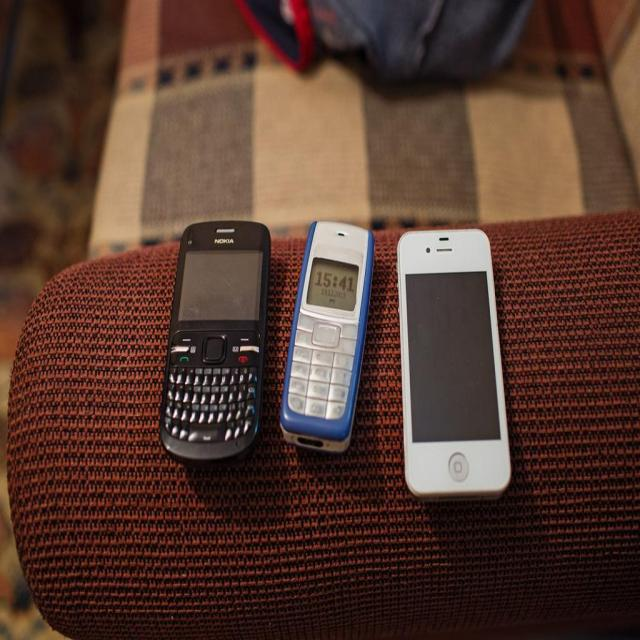Phone: (396, 227, 513, 501), (160, 222, 270, 464), (279, 220, 375, 457)
